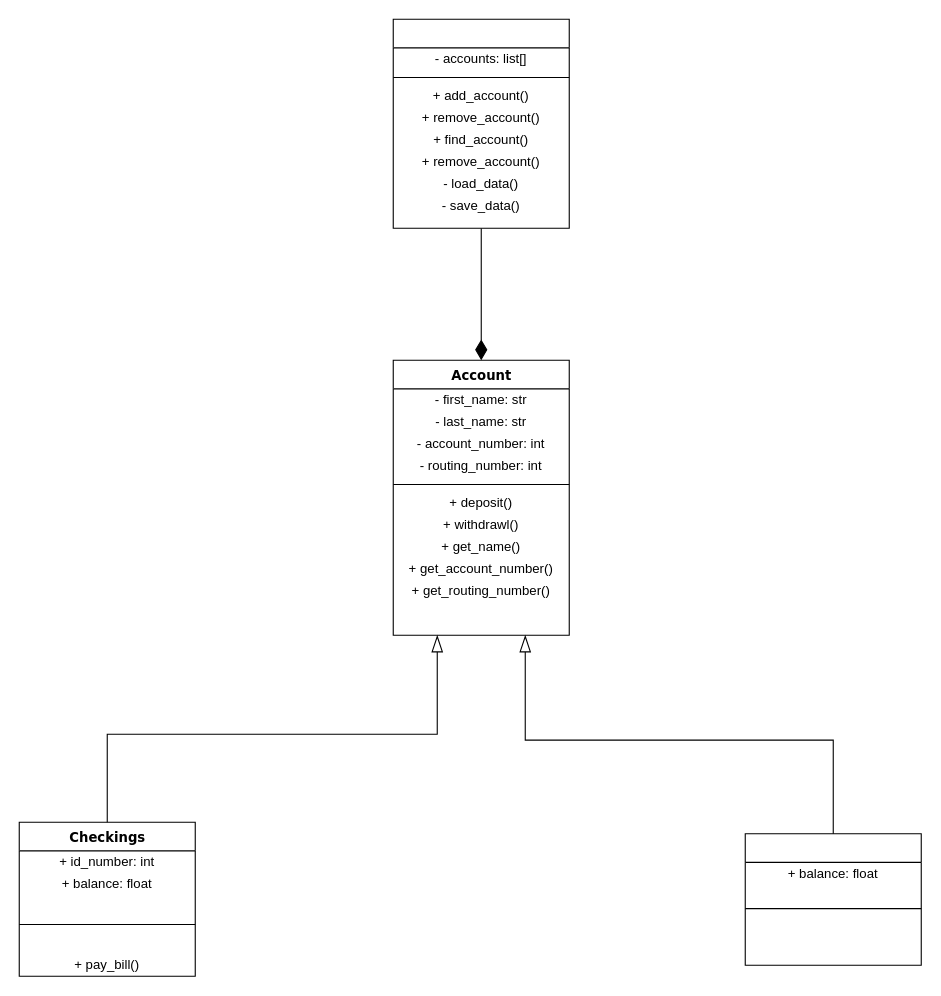
This 941x996 diagram has some shape labels left out. The box of each missing label's shape, as (x1, y1, x2, y2) in pixels:
Bank: (392, 18, 569, 228)
Savings: (744, 833, 921, 965)
